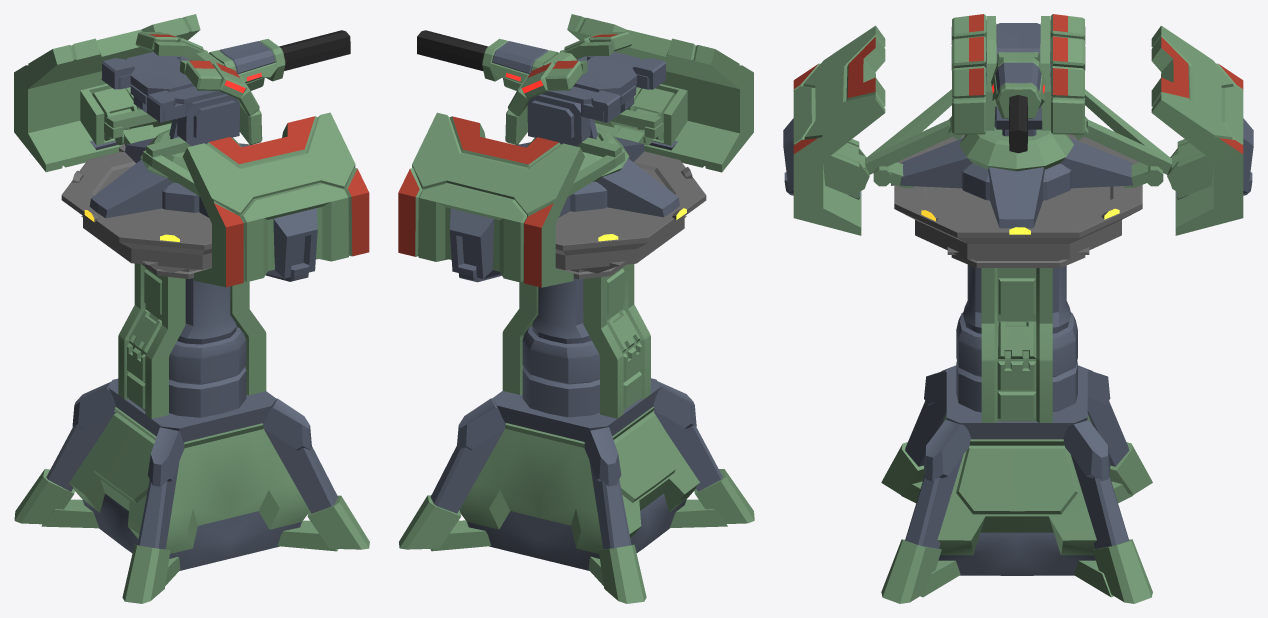
Rendered from Auto_turret.fbx.
3 views of the same model, side by side, from view 1: azimuth 30°, elevation 25°; view 2: azimuth 150°, elevation 25°; view 3: azimuth 270°, elevation 25° (orthographic). The views are drawn at different scales.
Parts seen in each view (by area): view 1: Cube.039, Cube.041, Cube.040, Cylinder.010, Cylinder.009, Cylinder.008; view 2: Cube.039, Cube.041, Cube.040, Cylinder.010, Cylinder.009, Cylinder.008; view 3: Cube.039, Cube.041, Cube.040, Cylinder.009, Cylinder.008, Cylinder.010.
Boxes of the visible parts, <box> form: Cube.039: <box>14,263,369,603</box>; Cube.041: <box>14,14,369,287</box>; Cube.040: <box>61,143,252,278</box>; Cylinder.010: <box>209,30,350,90</box>; Cylinder.009: <box>89,138,248,218</box>; Cylinder.008: <box>140,129,241,212</box>; Cube.039: <box>399,264,754,603</box>; Cube.041: <box>398,14,753,287</box>; Cube.040: <box>518,144,706,279</box>; Cylinder.010: <box>417,30,558,90</box>; Cylinder.009: <box>517,136,679,217</box>; Cylinder.008: <box>527,126,629,211</box>; Cube.039: <box>881,264,1152,603</box>; Cube.041: <box>783,14,1253,235</box>; Cube.040: <box>894,134,1142,267</box>; Cylinder.009: <box>900,138,1132,228</box>; Cylinder.008: <box>959,127,1073,200</box>; Cylinder.010: <box>991,57,1045,153</box>.
Bounding box in the file's own units: 136 × 230 × 189.
